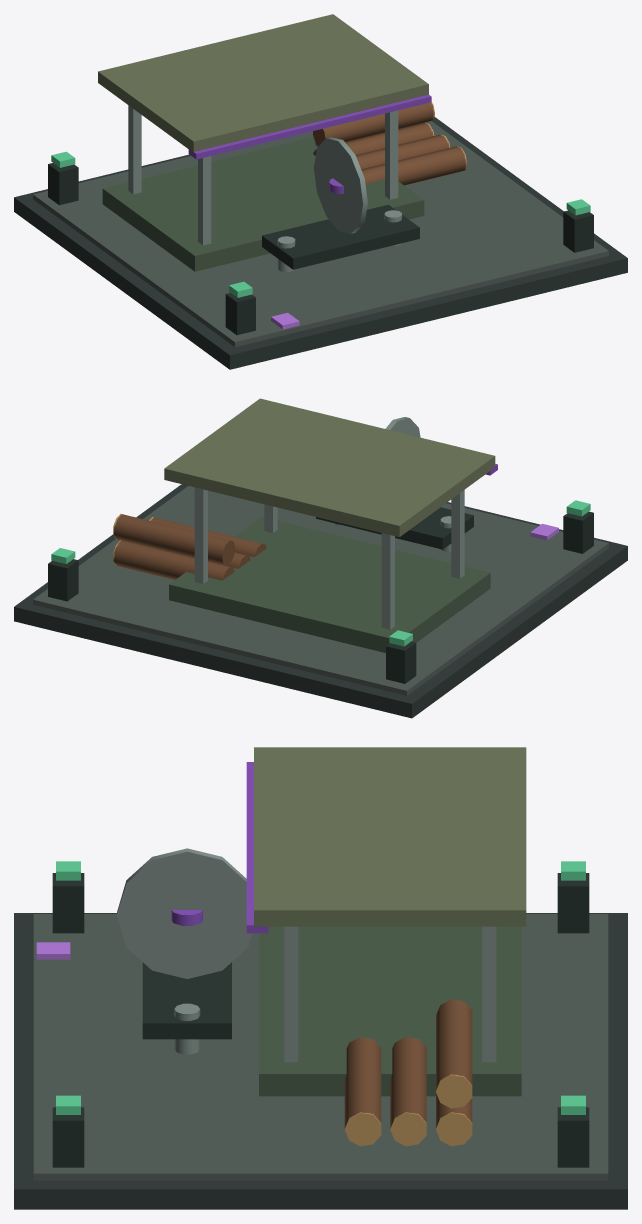
The model's file is timberline_l01.glb.
3 views of the same model, one above another, from view 1: azimuth 30°, elevation 25°; view 2: azimuth 150°, elevation 25°; view 3: azimuth 270°, elevation 25° (orthographic). The views are drawn at different scales.
Parts seen in each view (by area): view 1: timberline_l01; view 2: timberline_l01; view 3: timberline_l01.
Part boxes in pixels (bbox=[...]): timberline_l01: bbox=[14, 14, 627, 369]; timberline_l01: bbox=[14, 398, 627, 718]; timberline_l01: bbox=[14, 747, 627, 1209].
Size of the model in its own units: 6.6 by 2.45 by 6.2.
